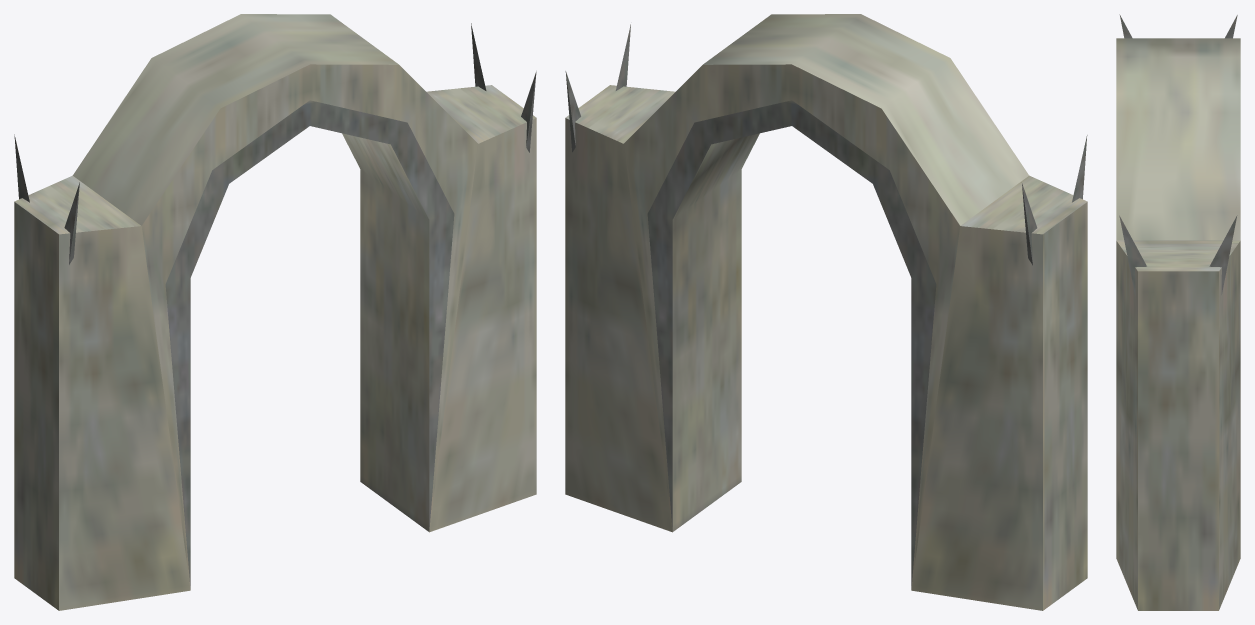
Rendered from thm_corl_imprv_arch_sm_s03_l2.fbx.
3 renders of one model, left to right at view 1: azimuth 30°, elevation 25°; view 2: azimuth 150°, elevation 25°; view 3: azimuth 270°, elevation 25°, orthographic. The views are drawn at different scales.
Parts seen in each view (by area): view 1: mesh_node; view 2: mesh_node; view 3: mesh_node.
Boxes of the visible parts, box(x1,y1,x2,y2) form: mesh_node: box(14, 14, 536, 610); mesh_node: box(565, 14, 1087, 610); mesh_node: box(1116, 14, 1240, 610).
Bounding box in the file's own units: 8 × 7.95 × 2.
1 material, 1 textured.
